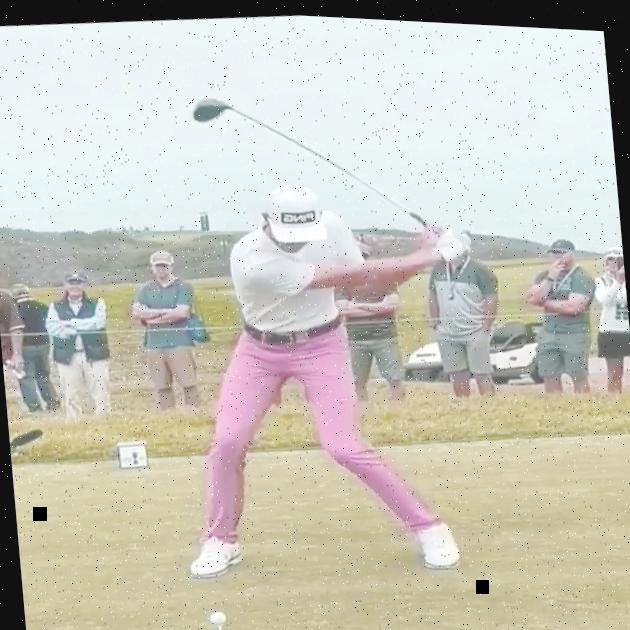ClubHead: (191, 93, 230, 122)
GolfBall: (208, 607, 228, 624)
